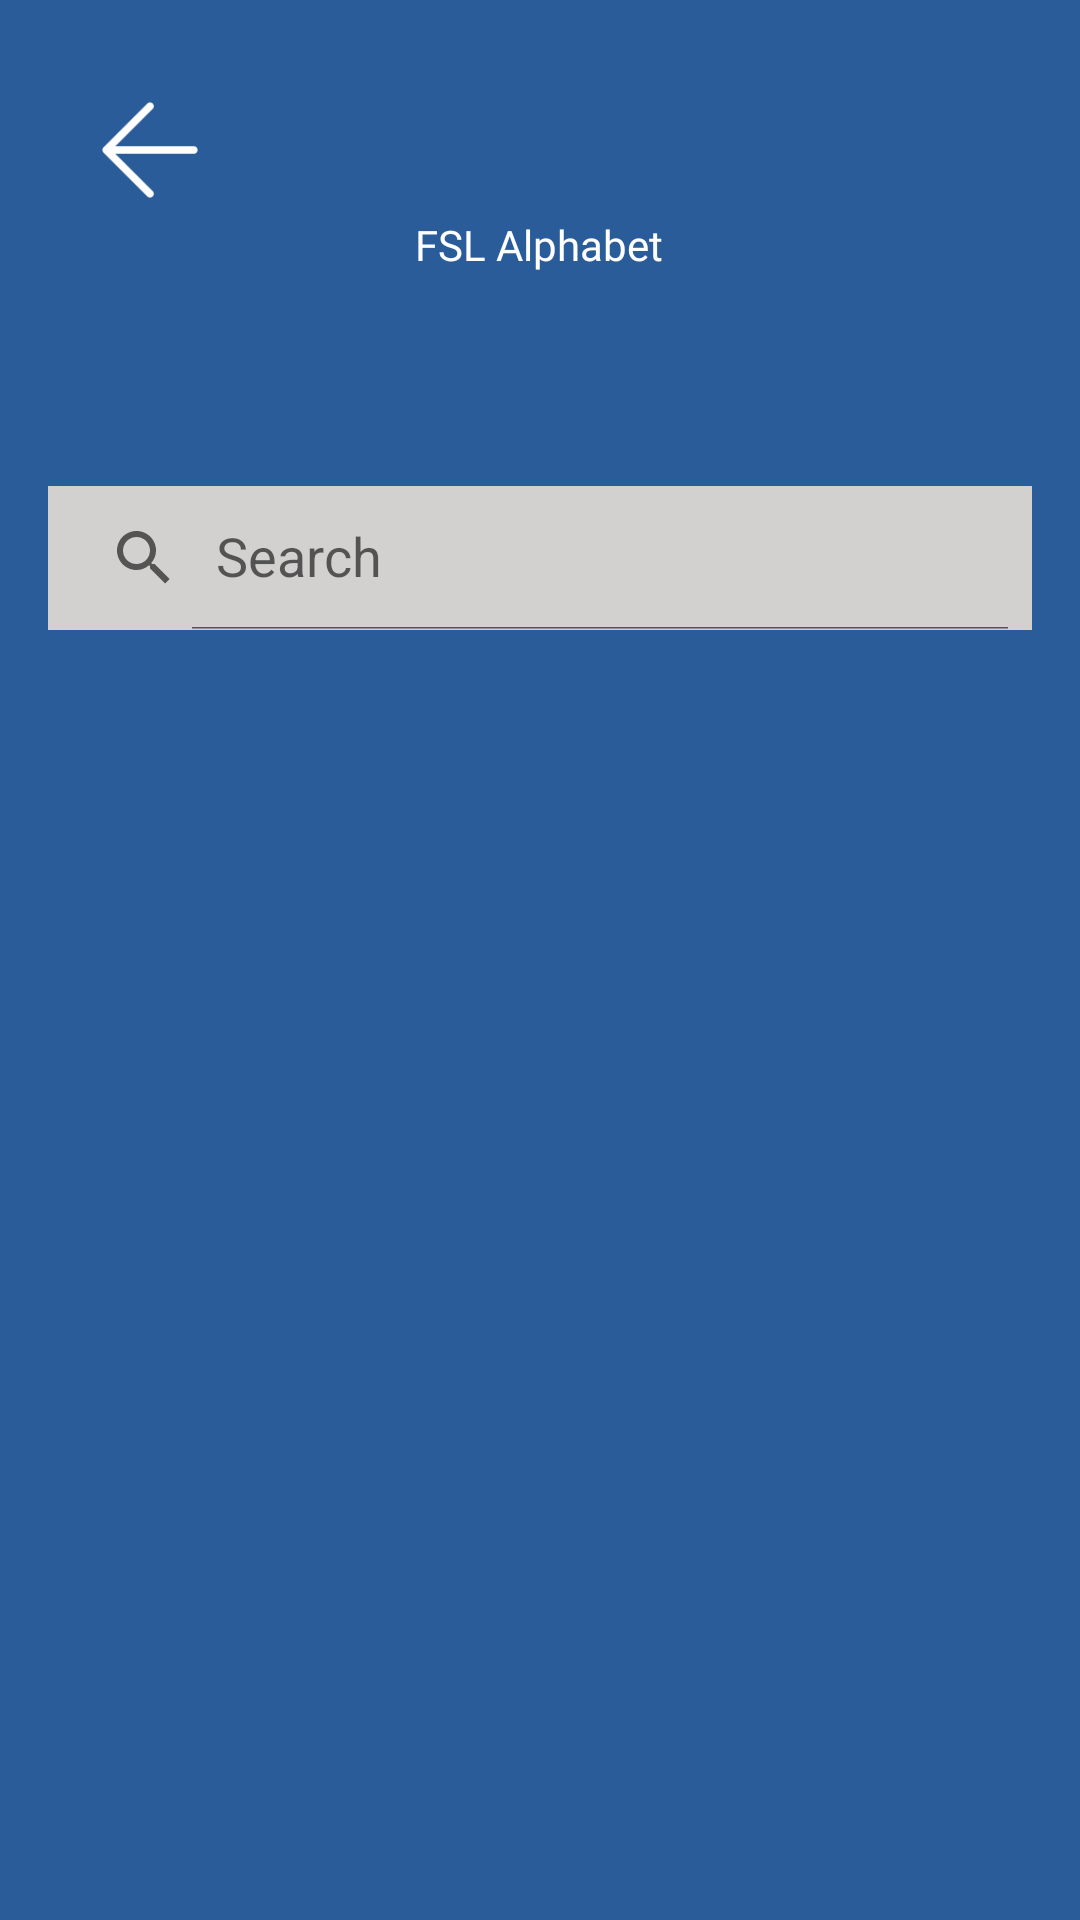

Icon click points for this 1080 × 1920 phone screenshot, format point (x, y):
arrow left: point (150, 150)
